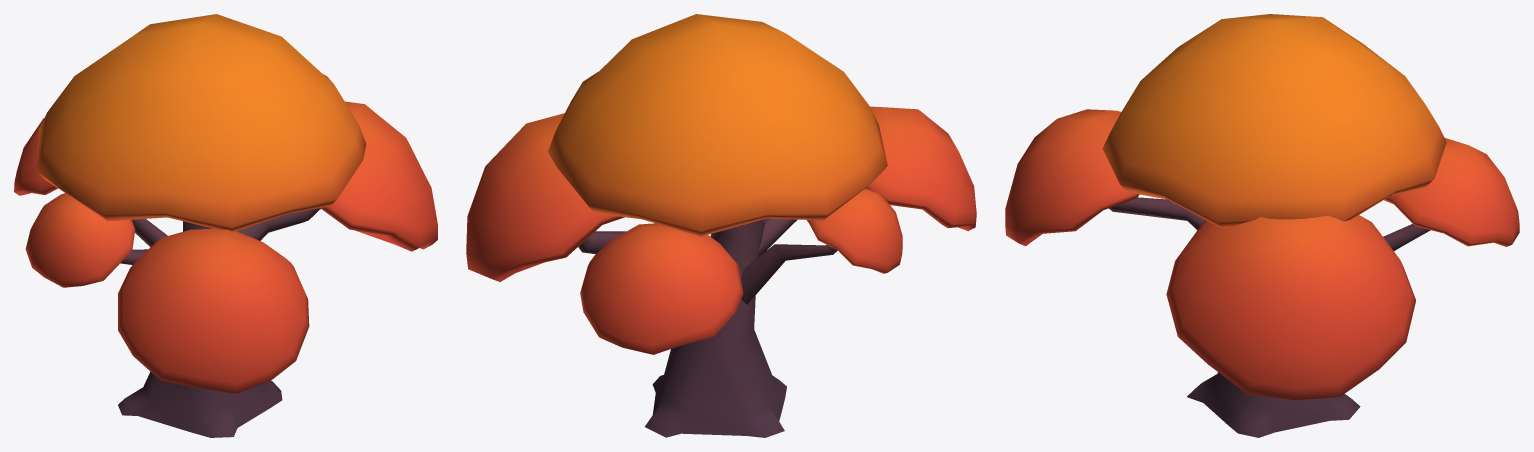
Rendered from tree_pack_06.glb.
3 views of the same model, side by side, from view 1: azimuth 30°, elevation 25°; view 2: azimuth 150°, elevation 25°; view 3: azimuth 270°, elevation 25° (orthographic).
Visible parts, largest first — view 1: Tree.006; view 2: Tree.006; view 3: Tree.006.
Boxes of the visible parts, box(x1,y1,x2,y2) form: Tree.006: box(14, 14, 437, 437); Tree.006: box(466, 14, 976, 437); Tree.006: box(1005, 14, 1519, 437).
Bounding box in the file's own units: 6.61 × 6 × 7.34.
Materials: 1 (1 with a texture image).
